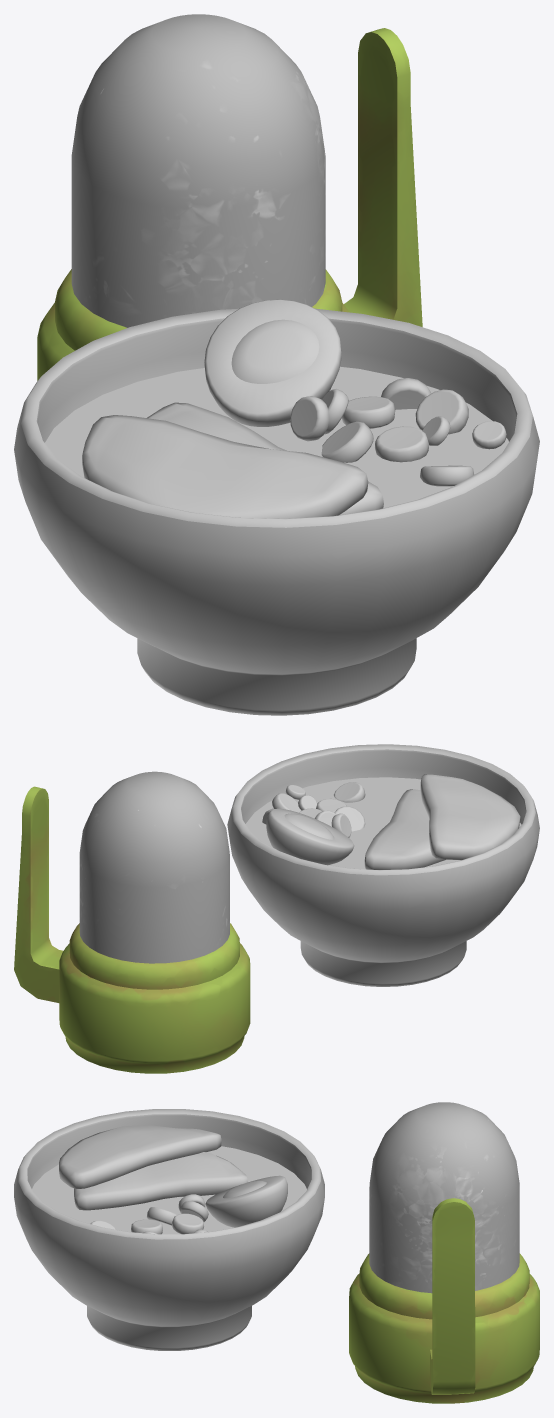
File: ponyo bowl and lamp.fbx
3 views of the same model, one above another, from view 1: azimuth 30°, elevation 25°; view 2: azimuth 150°, elevation 25°; view 3: azimuth 270°, elevation 25° (orthographic). The views are drawn at different scales.
Parts seen in each view (by area): view 1: BOWL LOW.001, domeLOW.001, handleLOW.001, HAM LOW.001, brothLOW.001, Sphere.033, HAM LOW.002, GreensLOW.001, GreensLOW.003, GreensLOW.005, GreensLOW.008, GreensLOW.002 (+2 smaller); view 2: BOWL LOW.001, handleLOW.001, domeLOW.001, HAM LOW.001, brothLOW.001, HAM LOW.002, Sphere.033, GreensLOW.009, GreensLOW.005; view 3: BOWL LOW.001, handleLOW.001, domeLOW.001, HAM LOW.001, HAM LOW.002, brothLOW.001, Sphere.033, GreensLOW.002, GreensLOW.001.
Part boxes in pixels (<box>): BOWL LOW.001: <box>14,308,539,715</box>; domeLOW.001: <box>71,14,325,327</box>; handleLOW.001: <box>37,28,422,380</box>; HAM LOW.001: <box>82,415,368,518</box>; brothLOW.001: <box>45,366,508,508</box>; Sphere.033: <box>204,299,341,426</box>; HAM LOW.002: <box>147,402,383,515</box>; GreensLOW.001: <box>375,426,428,462</box>; GreensLOW.003: <box>415,389,468,434</box>; GreensLOW.005: <box>321,421,373,462</box>; GreensLOW.008: <box>290,396,329,441</box>; GreensLOW.002: <box>342,396,395,428</box>; BOWL LOW.001: <box>227,744,539,986</box>; handleLOW.001: <box>14,786,250,1073</box>; domeLOW.001: <box>79,771,229,963</box>; HAM LOW.001: <box>420,774,520,860</box>; brothLOW.001: <box>245,777,521,869</box>; HAM LOW.002: <box>364,789,446,869</box>; Sphere.033: <box>266,808,354,865</box>; GreensLOW.009: <box>334,782,365,802</box>; GreensLOW.005: <box>334,806,365,831</box>; BOWL LOW.001: <box>14,1109,324,1350</box>; handleLOW.001: <box>349,1198,539,1403</box>; domeLOW.001: <box>369,1102,519,1293</box>; HAM LOW.001: <box>59,1125,221,1188</box>; HAM LOW.002: <box>74,1152,247,1210</box>; brothLOW.001: <box>32,1146,306,1234</box>; Sphere.033: <box>205,1175,287,1227</box>; GreensLOW.002: <box>172,1213,203,1234</box>; GreensLOW.001: <box>131,1219,162,1234</box>.
Bounding box in the file's own units: 357 × 247 × 460.
